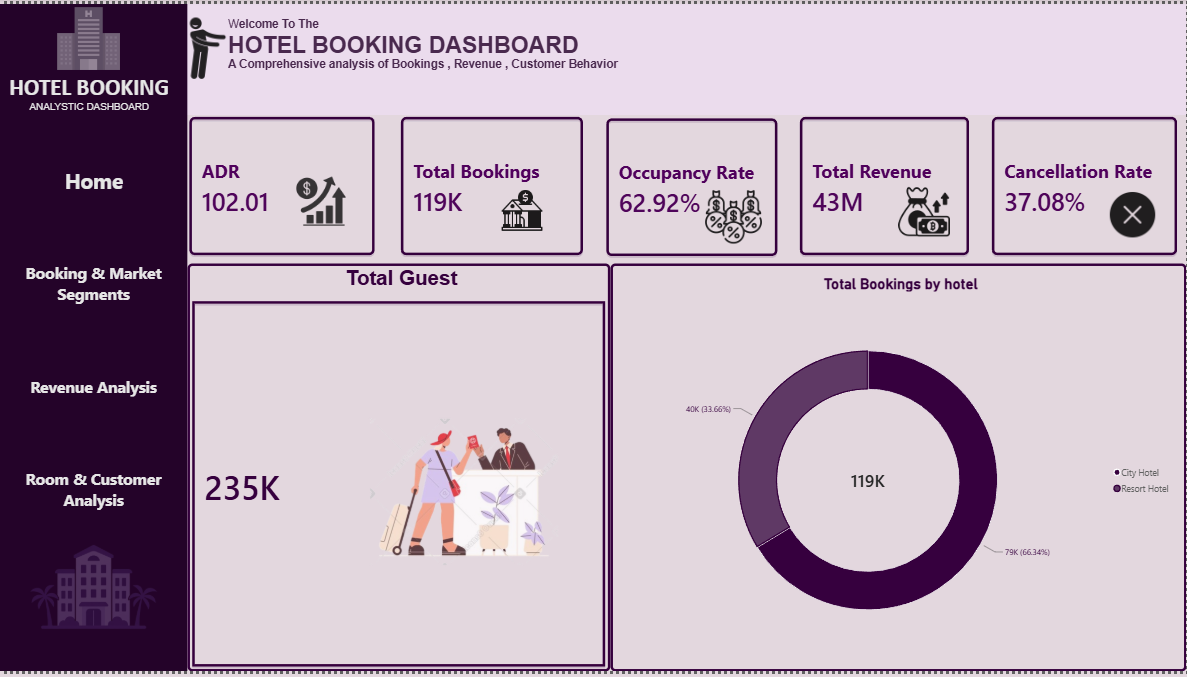

This screenshot's page, from the dashboard's own definition file:
{"tool":"powerbi","page":{"name":"Home","canvas":[1920,1080],"ordinal":0},"visuals":[{"type":"textbox","box":[10,0,280,280],"z":0},{"type":"cardVisual","fields":{"Data":["My Measures.Occupancy Rate"]},"box":[978.8,182.2,283.2,229.3],"z":0,"group":"g2"},{"type":"cardVisual","fields":{"Data":["My Measures.Total Revenue"]},"box":[1292.1,179.7,280,230],"z":3,"group":"g1"},{"type":"cardVisual","fields":{"Data":["My Measures.Average ADR"]},"box":[303.6,179.7,306.8,230],"z":5,"group":"g3"},{"type":"cardVisual","fields":{"Data":["My Measures.Cancellation Rate"]},"box":[1603,179.7,306,230.7],"z":6,"group":"g4"},{"type":"group","id":"g1","title":"Group 4","box":[1292.1,179.7,279.3,230.7],"z":6000},{"type":"group","id":"g2","title":"Group 6","box":[978.8,182.2,284.2,228.3],"z":15000},{"type":"shape","box":[289,0,1632.2,179.7],"z":15001},{"type":"shape","box":[0,0,303.6,1080.8],"z":15002},{"type":"image","box":[46.1,0,194.3,111.7],"z":15005},{"type":"textbox","box":[0,111.7,289,133.6],"z":15006},{"type":"pageNavigator","box":[0,206.5,303.6,663.1],"z":15008},{"type":"image","box":[0,840.4,303.6,221],"z":15009},{"type":"cardVisual","fields":{"Data":["My Measures.Total Bookings"]},"box":[646.1,179.7,301.2,230.7],"z":15010},{"type":"group","id":"g3","title":"Group 1","box":[303.6,179.7,306,230.7],"z":15011},{"type":"textbox","box":[369.2,19.4,1552,102],"z":15012},{"type":"image","box":[240.5,21.9,191.9,99.6],"z":15013},{"type":"donutChart","fields":{"Category":["Dim Hotel.hotel"],"Y":["My Measures.Total Bookings"]},"box":[988.5,420.2,932.7,660.6],"z":15014},{"type":"group","id":"g4","title":"Group 2","box":[1603,179.7,306,230.7],"z":15020},{"type":"image","box":[769.9,298.7,150.6,70.4],"z":15021},{"type":"image","box":[1112.4,298.7,150.6,92.3],"z":15022},{"type":"image","box":[444.5,279.3,150.6,80.2],"z":15023},{"type":"image","box":[1758.5,301.2,150.6,80.2],"z":15024},{"type":"image","box":[1420.9,291.5,150.6,89.9],"z":15025},{"type":"cardVisual","title":"Total Guest","fields":{"Data":["Sum(Fact Hotel.Total Guest)"]},"box":[303.6,420.2,684.9,660.6],"z":15026},{"type":"image","box":[519.8,505.2,459.1,539.2],"z":15027}]}

Visuals, with their boxes in screenshot pixels (x1, y1, x2, y2), scaled from the page's 1920x1080 canvas onto the 1187x677 screenshot:
textbox: detection(6, 0, 179, 176)
cardVisual - My Measures.Occupancy Rate: detection(605, 114, 780, 258)
cardVisual - My Measures.Total Revenue: detection(799, 113, 972, 257)
cardVisual - My Measures.Average ADR: detection(188, 113, 377, 257)
cardVisual - My Measures.Cancellation Rate: detection(991, 113, 1180, 257)
"Group 4" group: detection(799, 113, 971, 257)
"Group 6" group: detection(605, 114, 781, 257)
shape: detection(179, 0, 1186, 113)
shape: detection(0, 0, 188, 676)
image: detection(29, 0, 149, 70)
textbox: detection(0, 70, 179, 154)
pageNavigator: detection(0, 129, 188, 545)
image: detection(0, 527, 188, 665)
cardVisual - My Measures.Total Bookings: detection(399, 113, 586, 257)
"Group 1" group: detection(188, 113, 377, 257)
textbox: detection(228, 12, 1186, 76)
image: detection(149, 14, 267, 76)
donutChart - Dim Hotel.hotel x My Measures.Total Bookings: detection(611, 263, 1186, 676)
"Group 2" group: detection(991, 113, 1180, 257)
image: detection(476, 187, 569, 231)
image: detection(688, 187, 781, 245)
image: detection(275, 175, 368, 225)
image: detection(1087, 189, 1180, 239)
image: detection(878, 183, 972, 239)
"Total Guest" cardVisual: detection(188, 263, 611, 676)
image: detection(321, 317, 605, 655)
